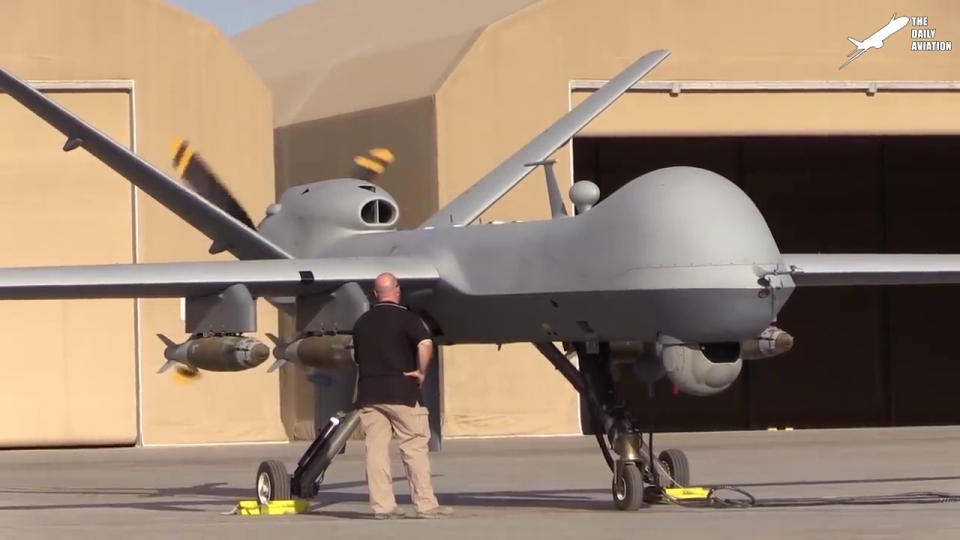military drone: (0, 49, 960, 512)
